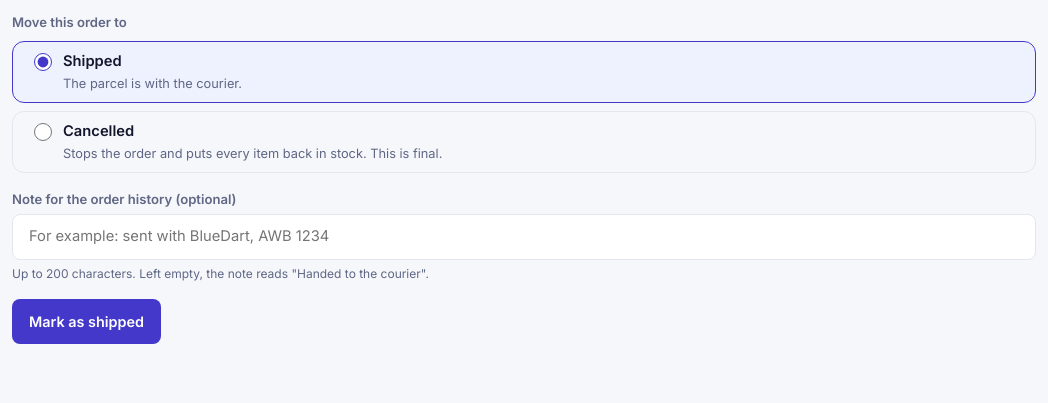
Scenario: OrderStatusForm › shows any other failure under the button and keeps the choice
The width and height of the screenshot is (1048, 403).
Click the button "Mark as shipped" at x=86, y=321, box [12,299,161,344]
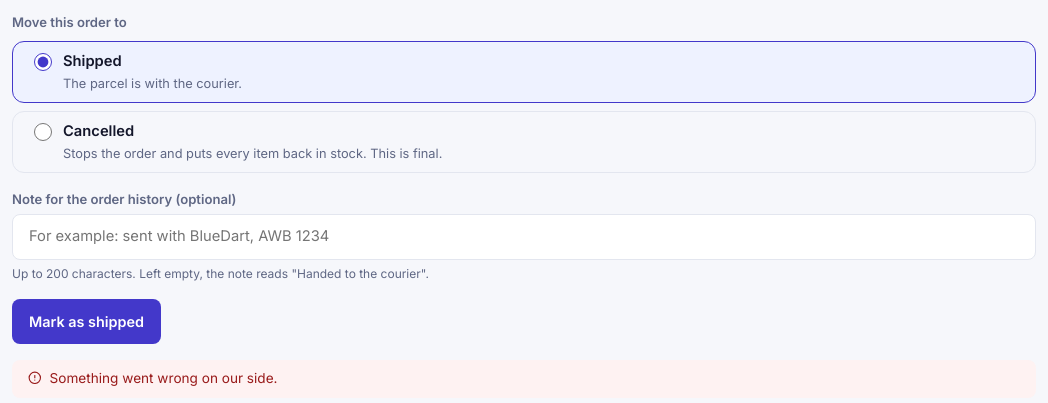
Expected: the radio button labelled "Shipped The parcel is with the courier." is checked, [34,53,52,71]
Expected: the message reads "Something went wrong on our side.", [50,370,278,386]
